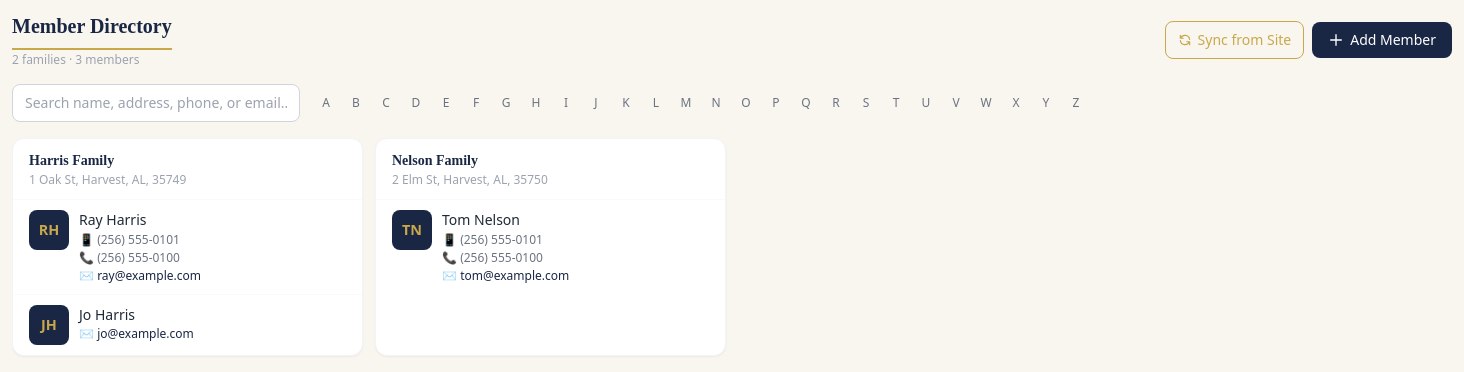
Test: DirectoryView — finding somebody › a letter narrows to families whose name starts with it
Expected: the heading "Harris Family" is shown, x1=29 y1=153 x2=114 y2=168
Click the button "N" at (716, 103), box x1=702 y1=89 x2=730 y2=117
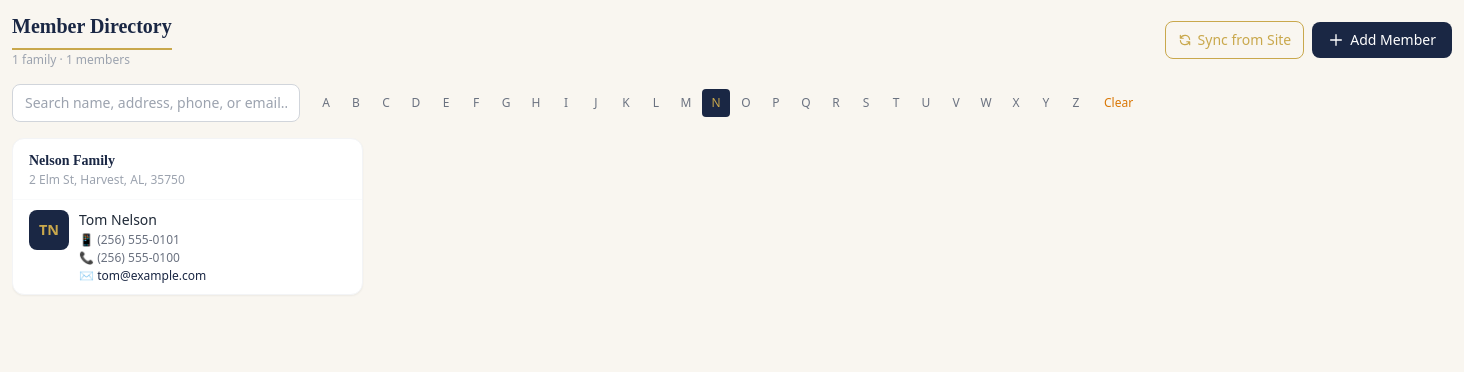
Expected: the heading "Nelson Family" is shown, x1=29 y1=153 x2=115 y2=168
Expected: the heading "Harris Family" is gone
